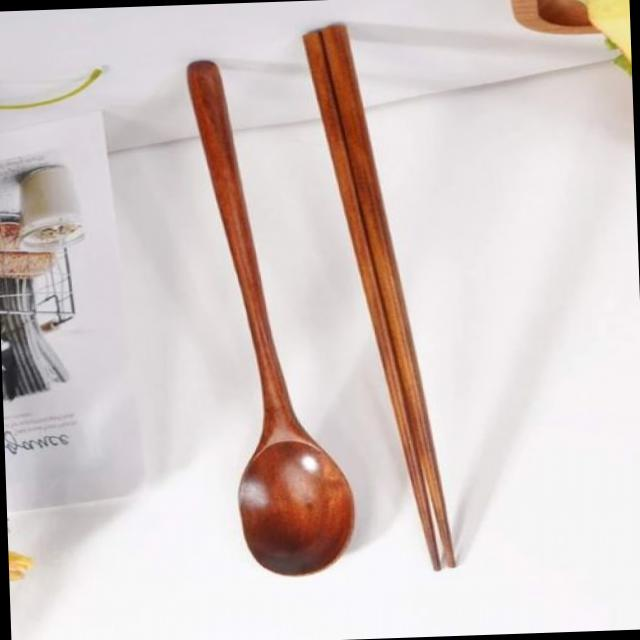spoon: (162, 46, 371, 591)
